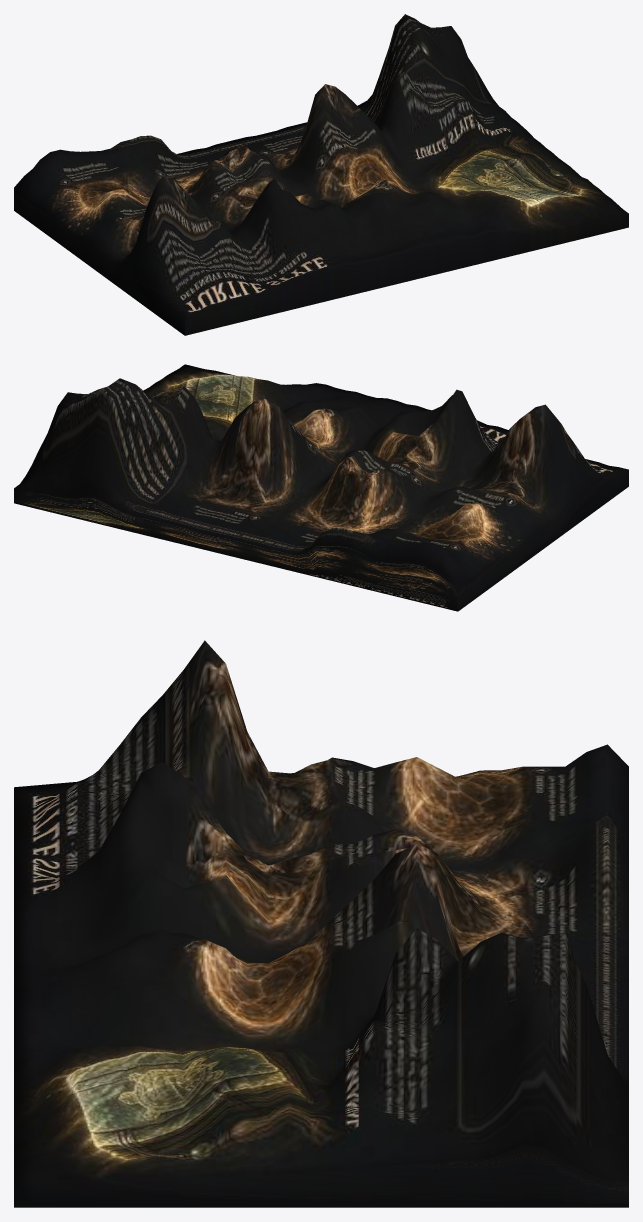
The model's file is CUL_36_Turtle.glb.
3 renders of one model, top to bottom at view 1: azimuth 30°, elevation 25°; view 2: azimuth 150°, elevation 25°; view 3: azimuth 270°, elevation 25°, orthographic. The views are drawn at different scales.
Parts seen in each view (by area): view 1: CUL_36_Turtle; view 2: CUL_36_Turtle; view 3: CUL_36_Turtle.
Part boxes in pixels (x1=…): CUL_36_Turtle: x1=14, y1=14, x2=628, y2=335; CUL_36_Turtle: x1=14, y1=364, x2=628, y2=611; CUL_36_Turtle: x1=14, y1=640, x2=628, y2=1207.
Size of the model in its own units: 2 by 0.51 by 1.33.
Materials: 1 (1 with a texture image).
